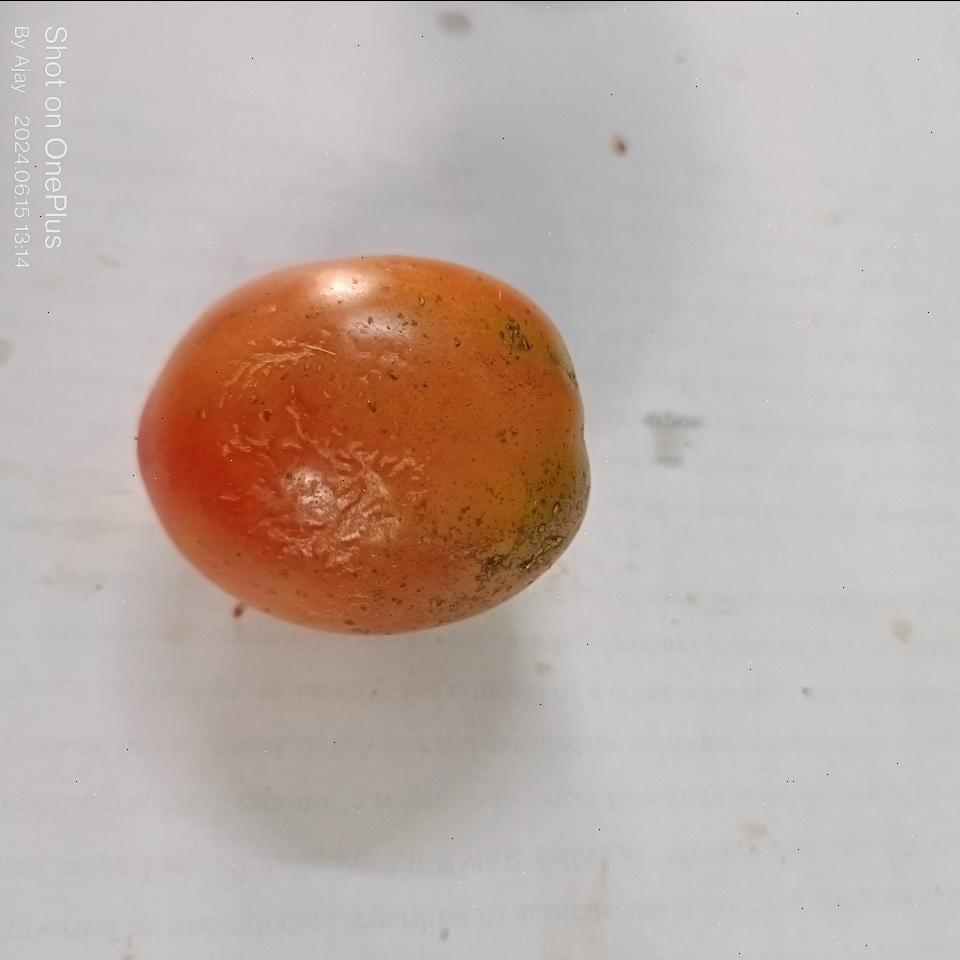Bacterial_Spot: (479, 462, 584, 584), (498, 310, 552, 364)
